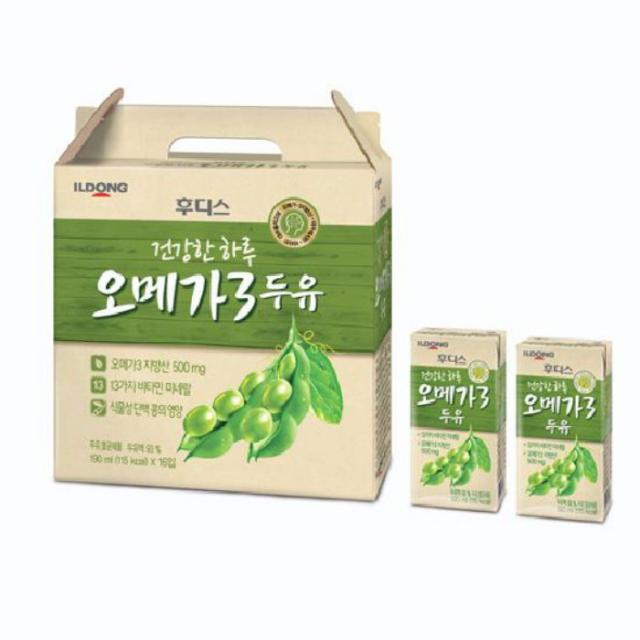Tetra: (511, 328, 626, 543), (402, 316, 509, 521)
